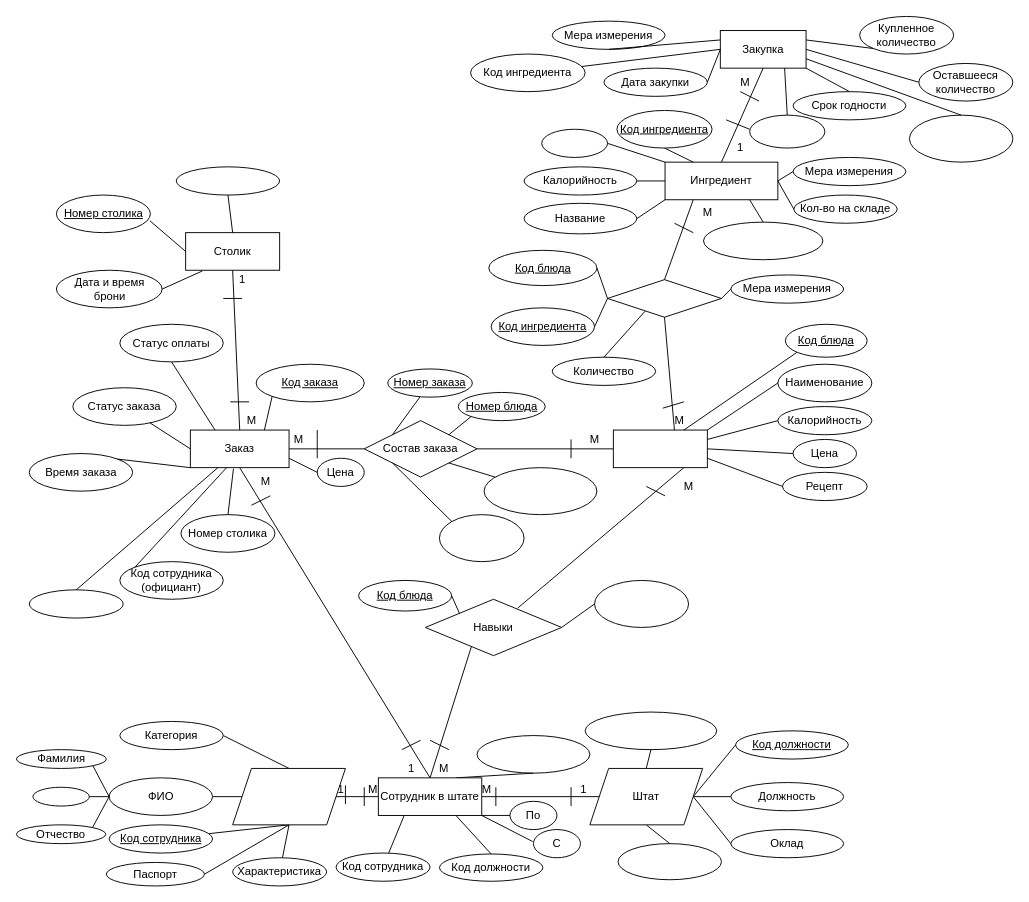
Image size: 1029x902. Some labels were removed from this diagram. Each missing label, with the centre of its shape:
"Блюдо" belongs at point (659, 448).
"Имя" belongs at point (60, 796).
"Код закупки" belongs at point (787, 131).
"Код сотрудника (повара)" belongs at point (641, 603).
"Количество блюда" belongs at point (540, 491).
"Необходимый запас" belongs at point (763, 240).
"Номер договора" belongs at point (533, 754).
"Примечание" belongs at point (75, 603).
"Примечание к блюду" belongs at point (481, 538).
"Свободные штатные единицы" belongs at point (650, 730).
"Состав блюда" belongs at point (664, 298).
"Сотрудник" belongs at point (288, 796).
"Статус" belongs at point (227, 180).
"Тип" belongs at point (574, 142).
"Цена за единицу товара" belongs at point (961, 138).
"Штатных единиц" belongs at point (669, 861).
